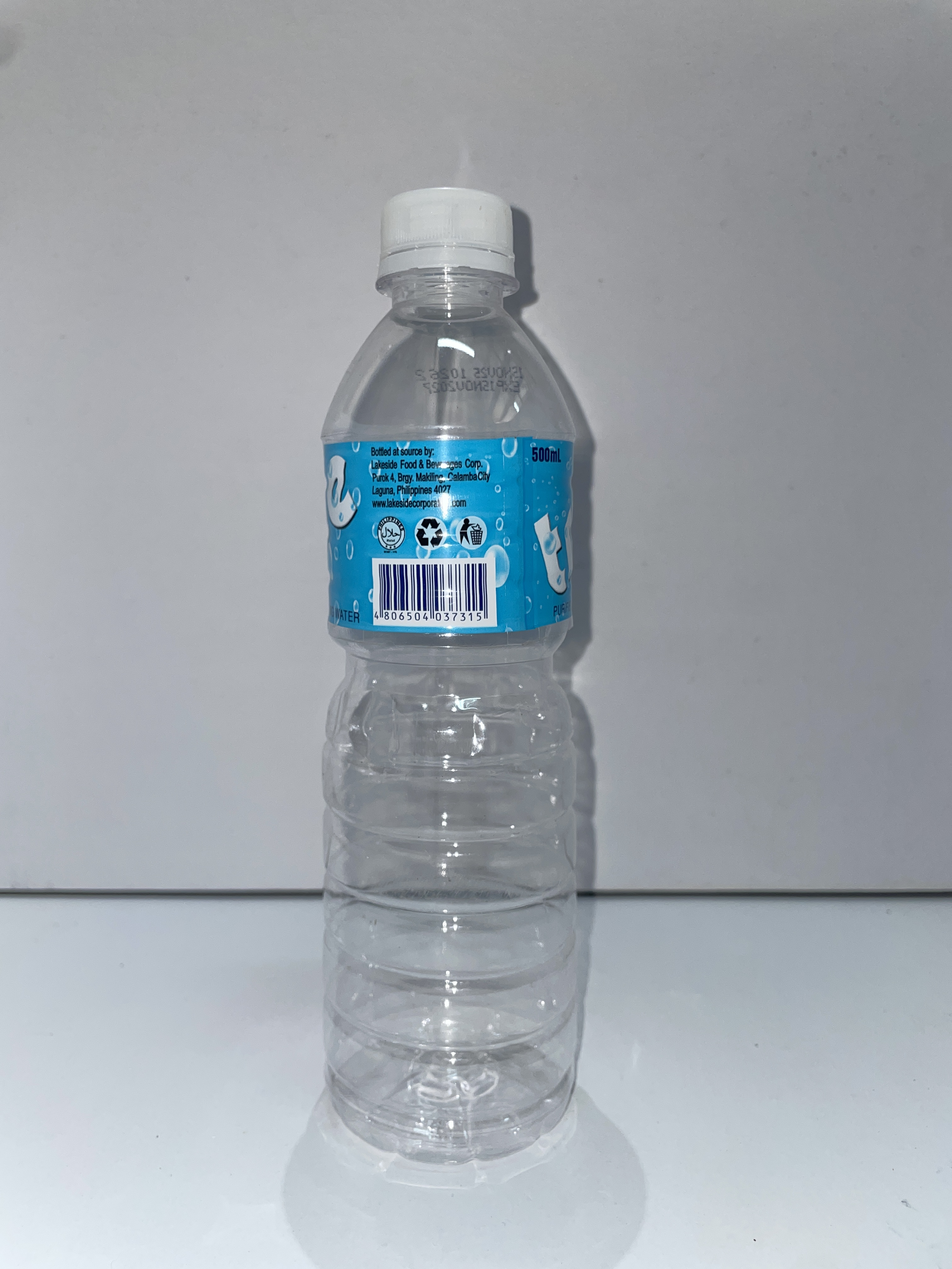True 500ml: (323, 189, 578, 1162)
